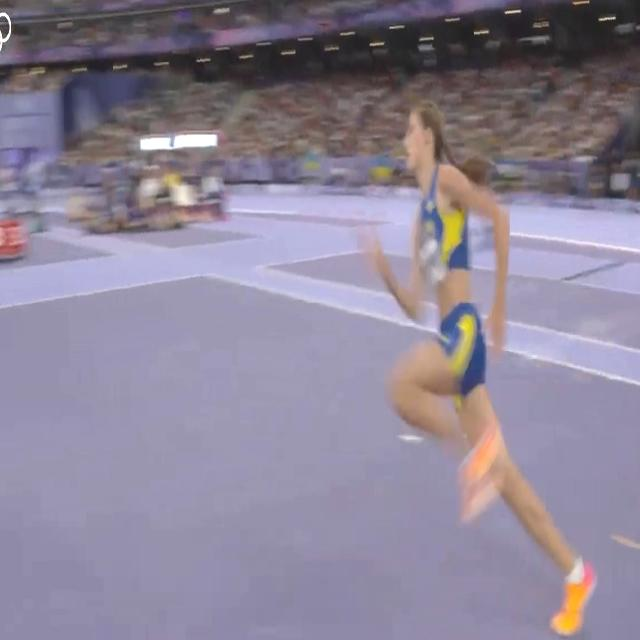run: (359, 91, 600, 640)
